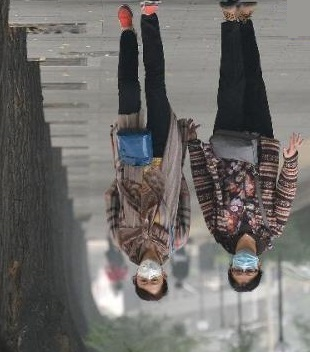person: (189, 1, 306, 293), (110, 6, 192, 303), (104, 235, 129, 297), (172, 245, 188, 290)
